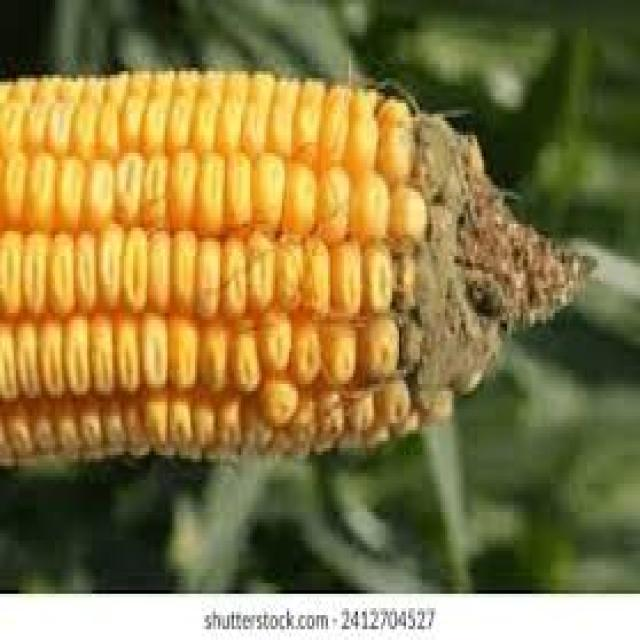purecorn: (0, 69, 433, 479)
